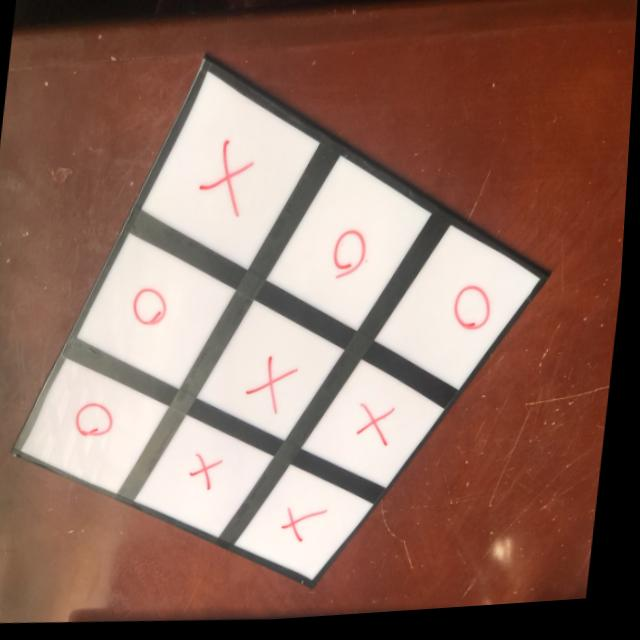o: (325, 223, 381, 291), (449, 285, 499, 351), (127, 277, 179, 337), (72, 395, 128, 449)
table: (0, 59, 552, 640)
x: (196, 133, 263, 233), (245, 349, 310, 420), (352, 401, 405, 462), (187, 444, 232, 504), (281, 504, 337, 552)
